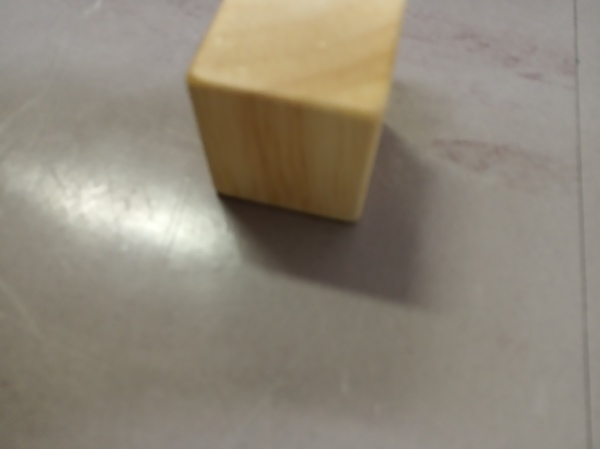violet: (204, 20, 385, 219)
